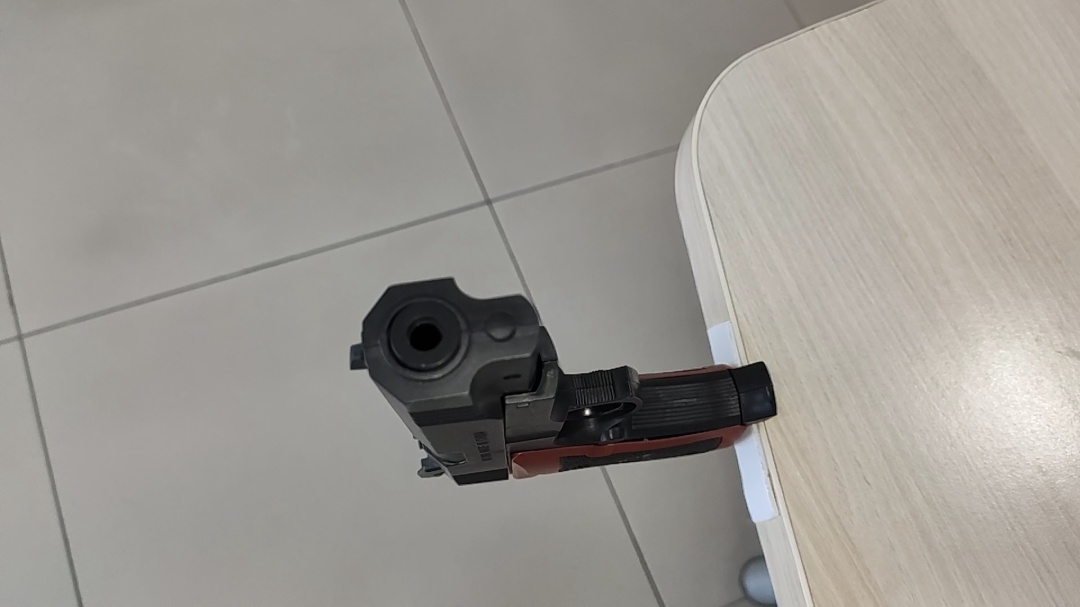gun: (464, 95, 808, 403)
